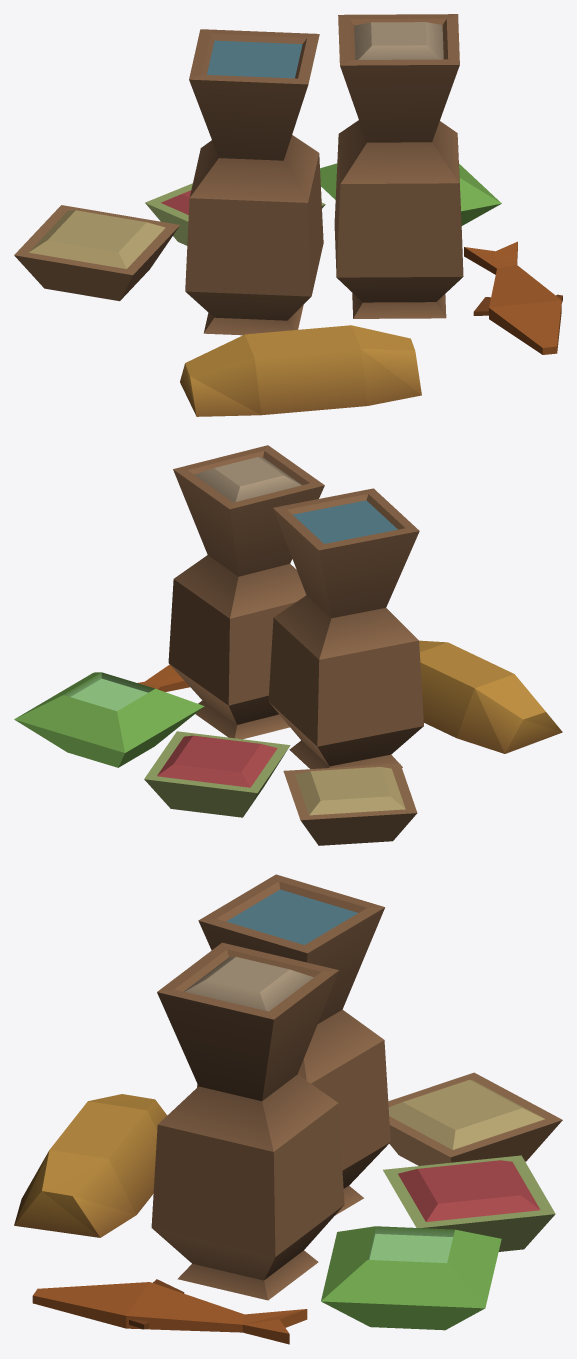
File: foods.glb
The picture shows the model from 3 angles, top to bottom: view 1: azimuth 30°, elevation 25°; view 2: azimuth 150°, elevation 25°; view 3: azimuth 270°, elevation 25°; orthographic projection. The views are drawn at different scales.
Visible parts, largest first — view 1: Cube.021; view 2: Cube.021; view 3: Cube.021.
Boxes of the visible parts, bbox=[...] form: Cube.021: bbox=[14, 14, 562, 416]; Cube.021: bbox=[14, 445, 562, 845]; Cube.021: bbox=[14, 874, 562, 1344].
Size of the model in its own units: 0.9869 by 0.5816 by 0.9725.
